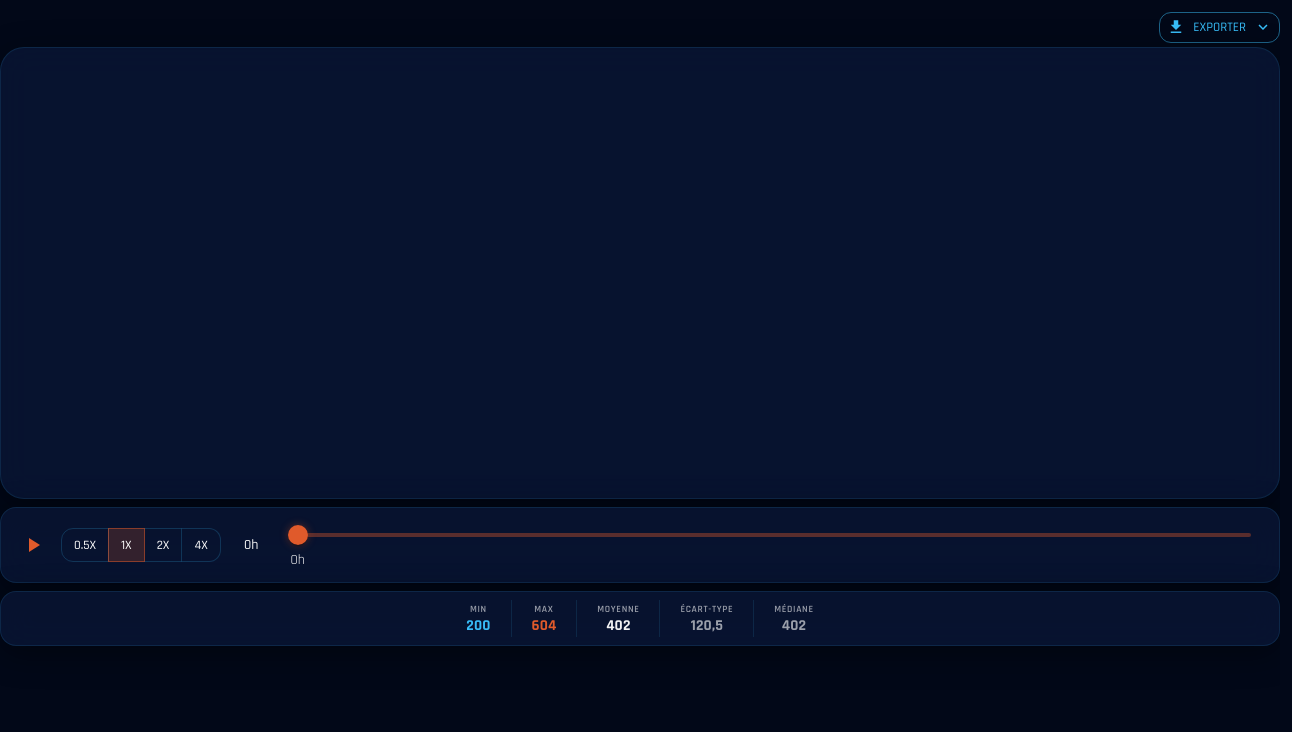
Test: exports du lecteur › signale l echec de l encodage video
Click the button "Exporter" at (1220, 27), box [1159,12,1280,43]
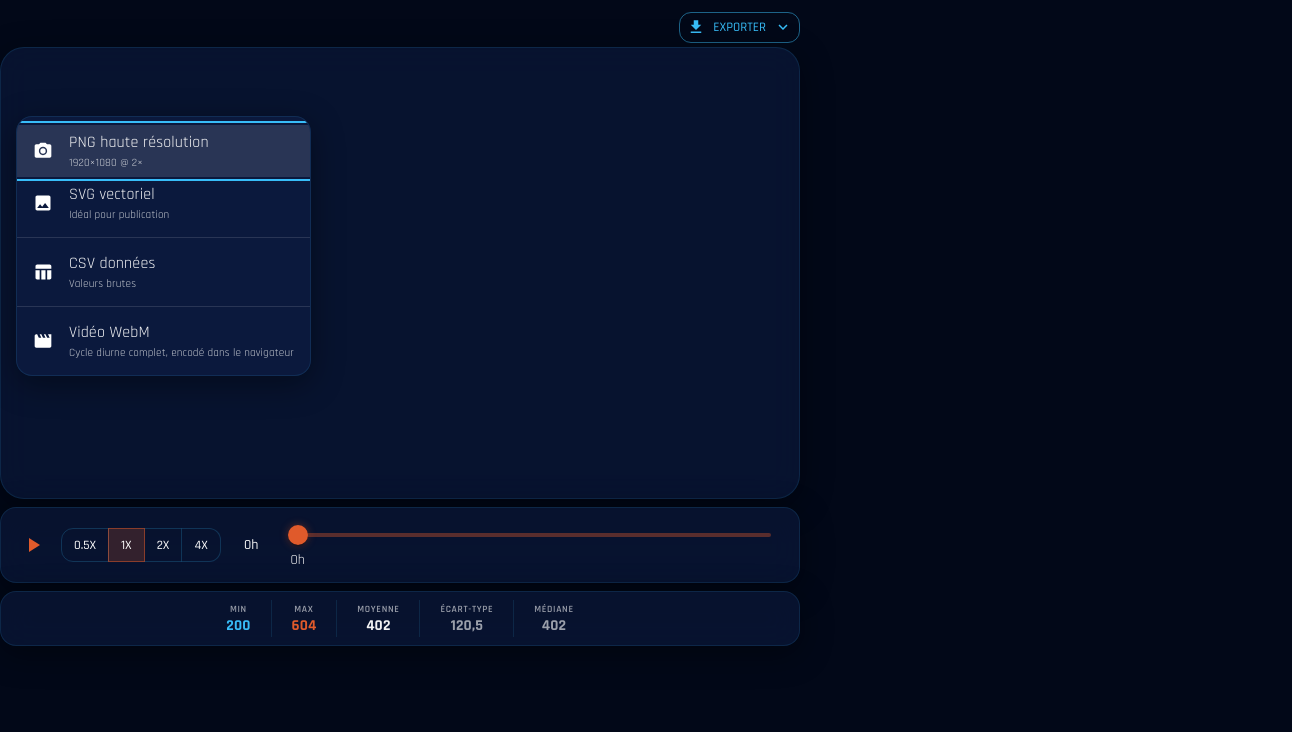
Click the menu item "Vidéo WebM Cycle diurne complet, encodé dans le navigateur" at (109, 333), box [17,315,310,367]
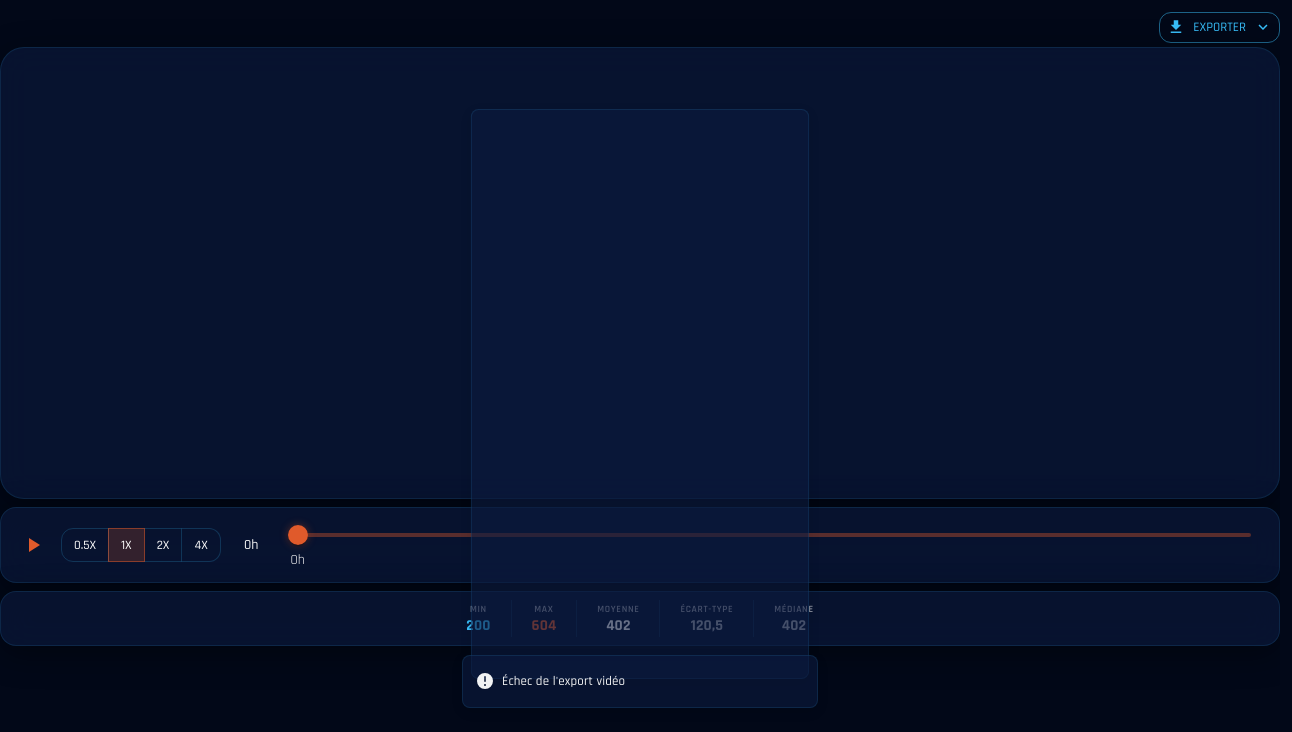
Check: the text "Échec de l'export vidéo" is shown, box [502,672,625,691]
